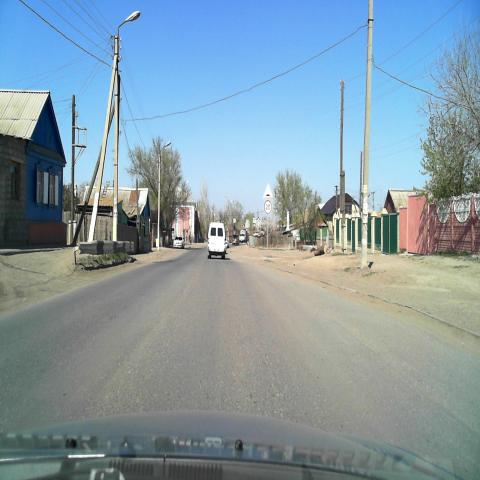1_17: (263, 182, 273, 199)
